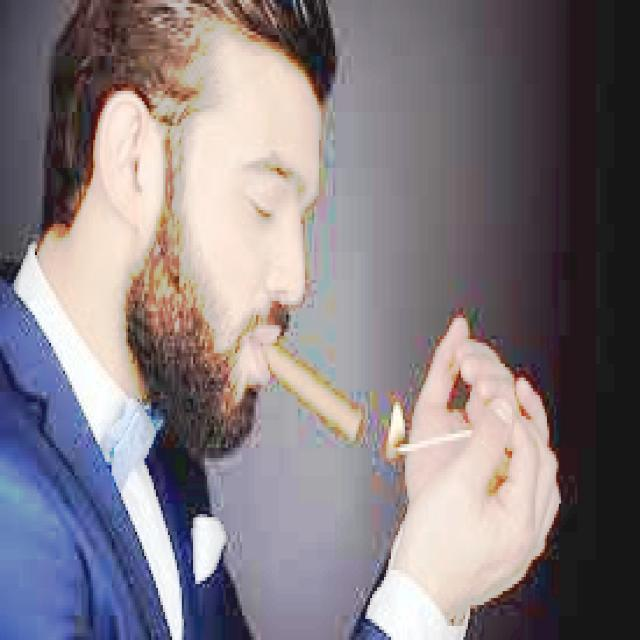api: (376, 396, 411, 463)
